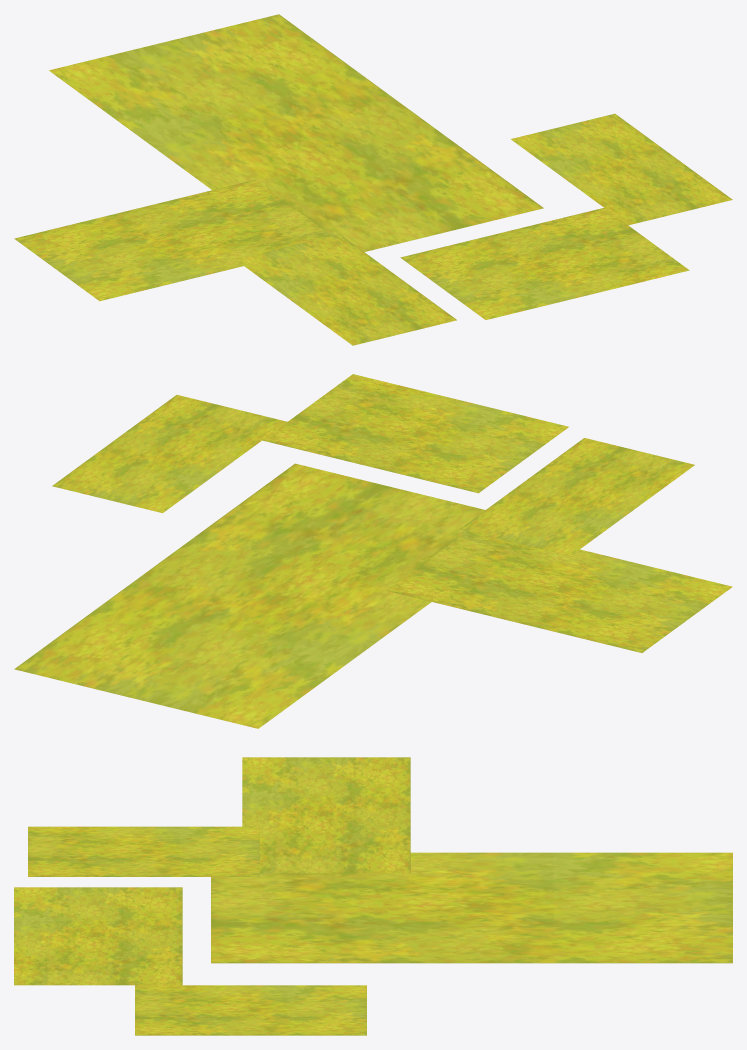
The model's file is springGrass.fbx.
The picture shows the model from 3 angles, top to bottom: view 1: azimuth 30°, elevation 25°; view 2: azimuth 150°, elevation 25°; view 3: azimuth 270°, elevation 25°; orthographic projection. The views are drawn at different scales.
Visible parts, largest first — view 1: gPlan_0, gPlan_1, gPlan_2, gPlan_3, gPlan_4; view 2: gPlan_0, gPlan_1, gPlan_2, gPlan_3, gPlan_4; view 3: gPlan_0, gPlan_1, gPlan_2, gPlan_3, gPlan_4.
Part boxes in pixels (left/top/right/bottom): gPlan_0: left=49, top=14, right=543, bottom=251; gPlan_1: left=14, top=180, right=331, bottom=301; gPlan_2: left=400, top=208, right=689, bottom=319; gPlan_3: left=235, top=234, right=456, bottom=345; gPlan_4: left=511, top=113, right=732, bottom=225; gPlan_0: left=14, top=463, right=485, bottom=728; gPlan_1: left=386, top=531, right=732, bottom=652; gPlan_2: left=262, top=374, right=568, bottom=493; gPlan_3: left=460, top=438, right=694, bottom=556; gPlan_4: left=52, top=395, right=287, bottom=513; gPlan_0: left=211, top=852, right=732, bottom=963; gPlan_1: left=242, top=757, right=410, bottom=873; gPlan_2: left=14, top=887, right=182, bottom=985; gPlan_3: left=28, top=826, right=259, bottom=876; gPlan_4: left=135, top=985, right=366, bottom=1035.
Bounding box in the file's own units: 13.72 × 8.78e-05 × 14.99.
